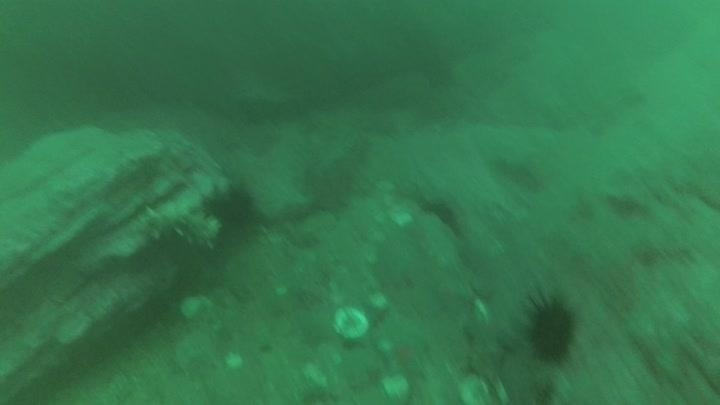echinus: (521, 291, 581, 365), (200, 181, 260, 233), (419, 193, 465, 239)
holothurian: (132, 204, 224, 253)
starfish: (376, 333, 429, 379)
